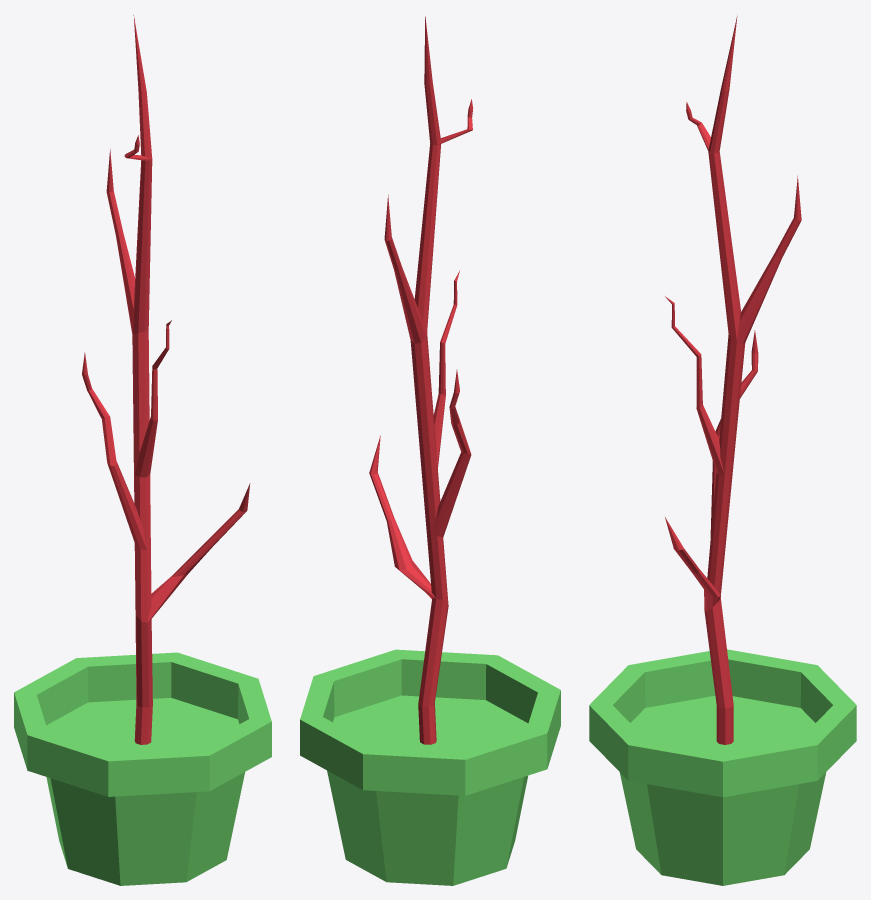
File: plant.fbx
The picture shows the model from 3 angles, left to right: view 1: azimuth 30°, elevation 25°; view 2: azimuth 150°, elevation 25°; view 3: azimuth 270°, elevation 25°; orthographic projection.
Parts seen in each view (by area): view 1: plant; view 2: plant; view 3: plant.
Boxes of the visible parts, <box> form: plant: <box>14,15,271,885</box>; plant: <box>300,16,560,885</box>; plant: <box>589,16,856,885</box>.
Bounding box in the file's own units: 140 × 483 × 140.
